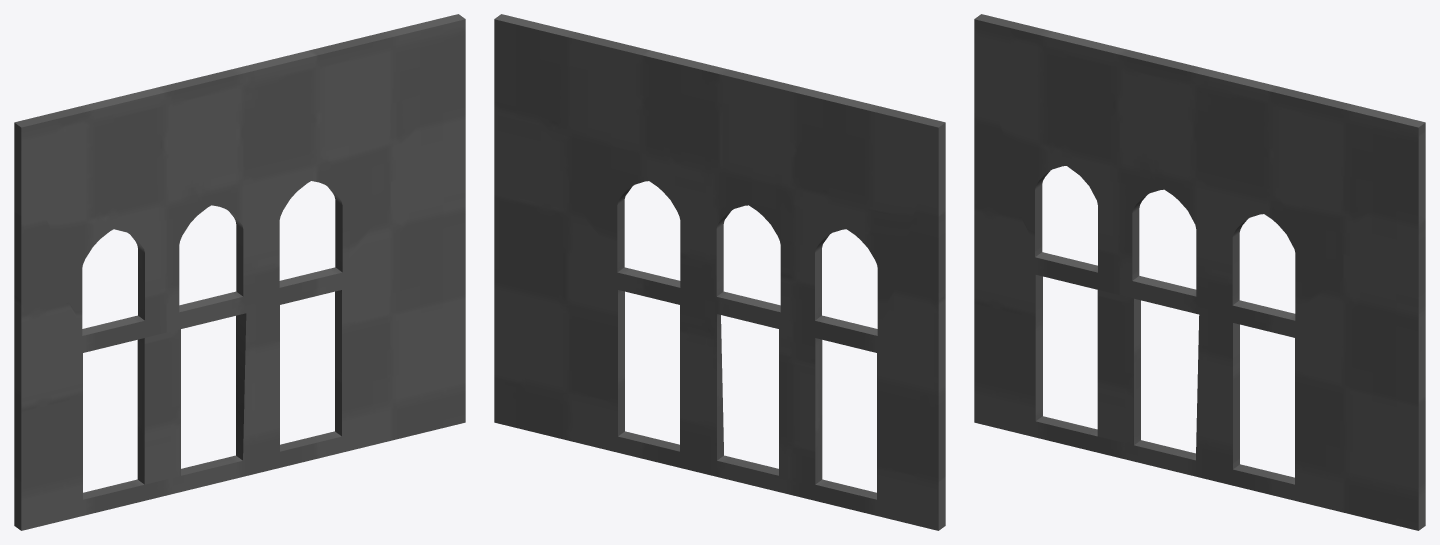
Rendered from SM_QiangTi01_5eaf2a.glb.
3 renders of one model, left to right at view 1: azimuth 30°, elevation 25°; view 2: azimuth 150°, elevation 25°; view 3: azimuth 330°, elevation 25°, orthographic.
Visible parts, largest first — view 1: SM_QiangTi01; view 2: SM_QiangTi01; view 3: SM_QiangTi01.
Part boxes in pixels (x1,y1,x2,y2): SM_QiangTi01: (14,14,465,530); SM_QiangTi01: (494,14,945,530); SM_QiangTi01: (974,14,1425,530).
Size of the model in its own units: 7.18 by 6.23 by 0.1999.
1 material, 1 textured.
